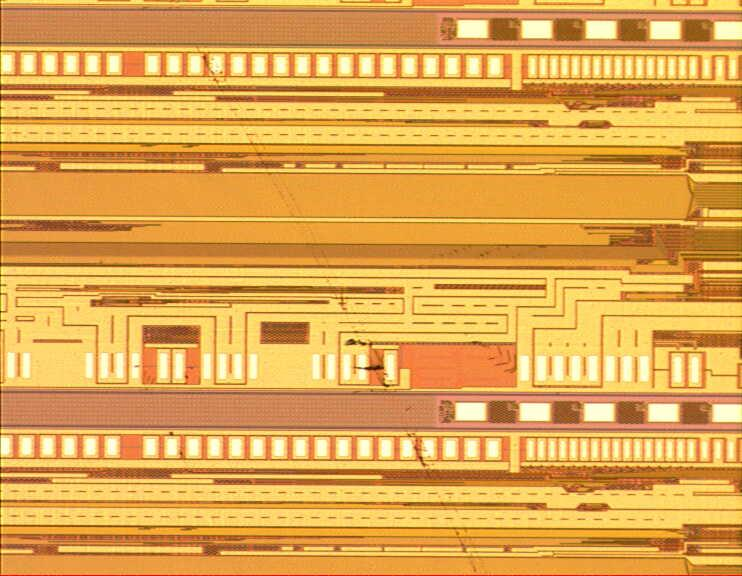SCRATCH: (186, 39, 488, 575)
